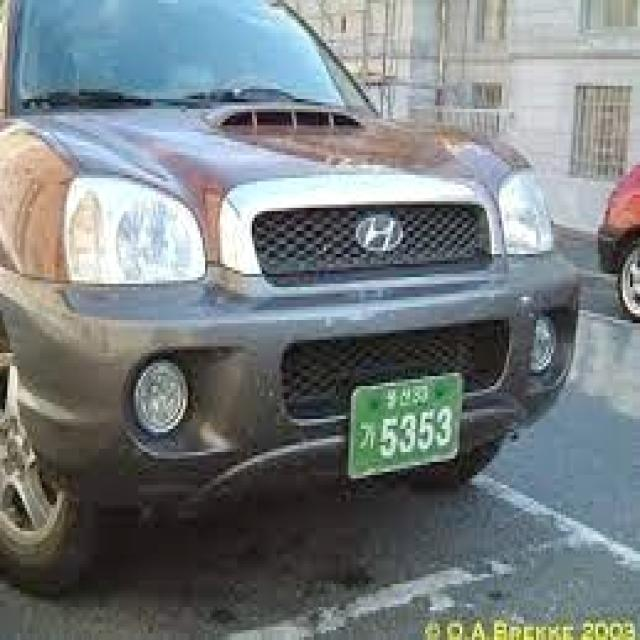car: (0, 0, 587, 600)
illegal_plate: (347, 370, 467, 483)
